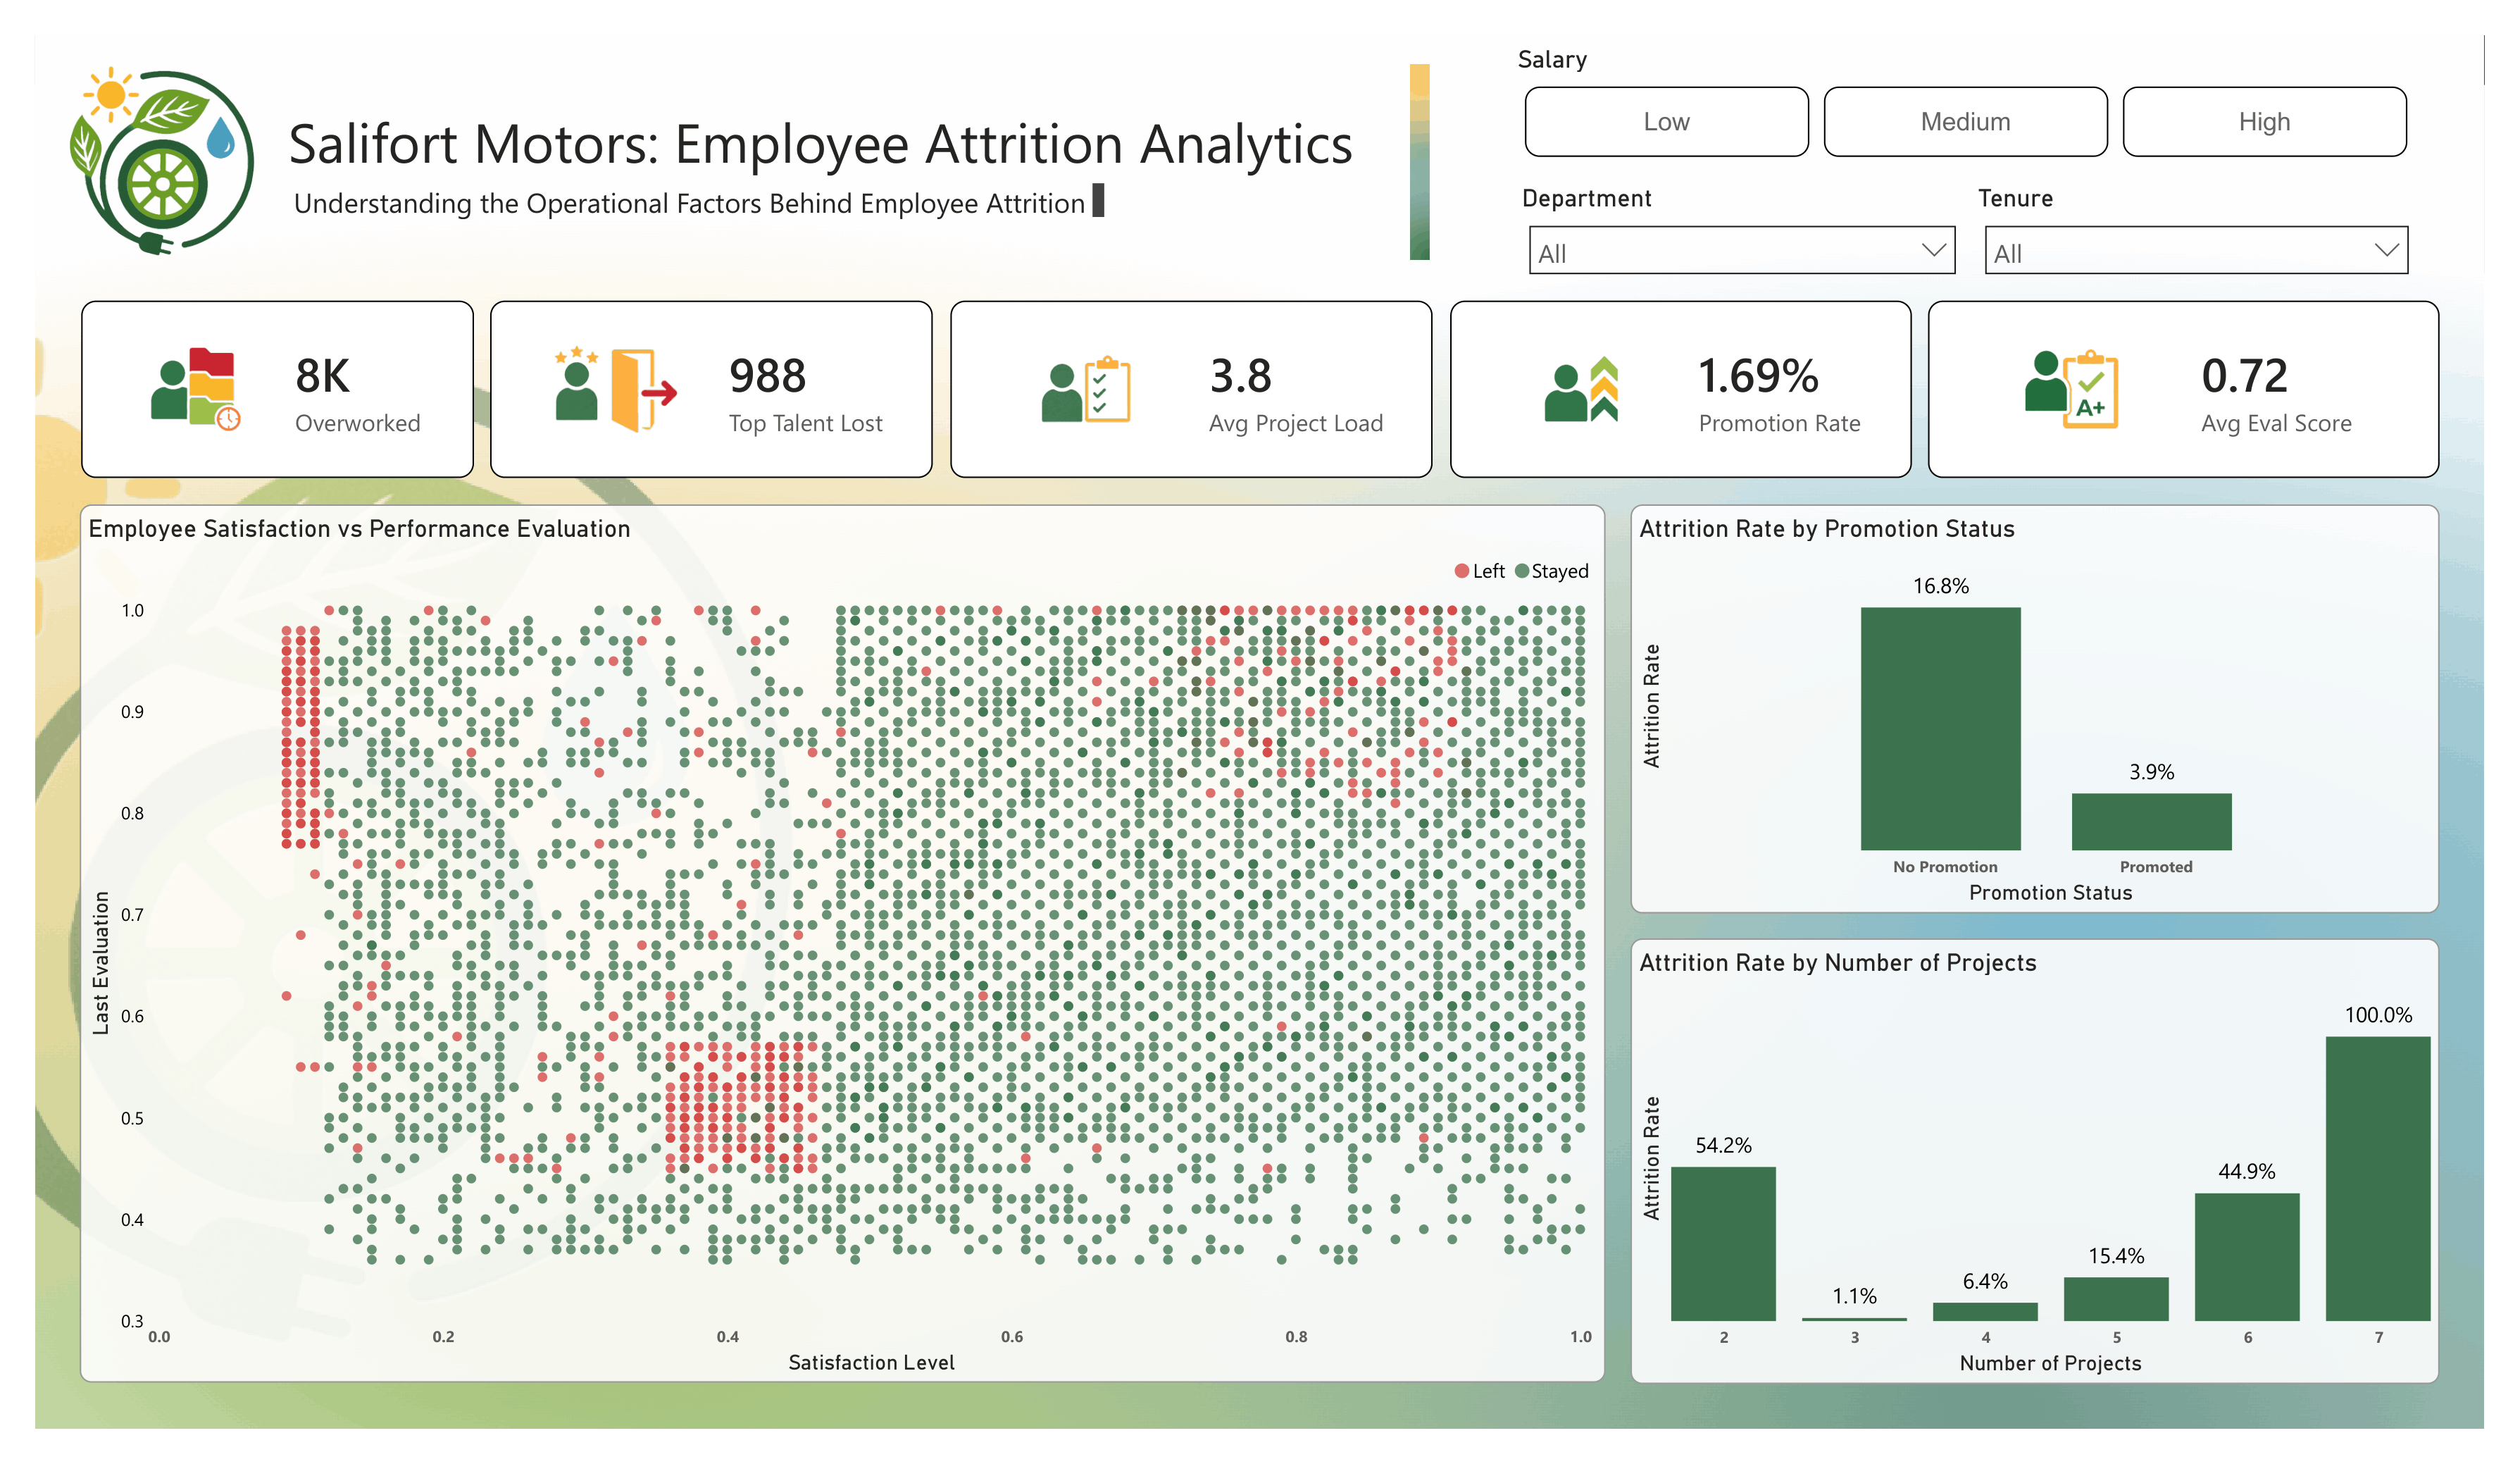

The dashboard page shown, as its layout file describes it:
{"tool":"powerbi","page":{"name":"Workload & Burnout Drivers","canvas":[1670,950],"ordinal":1},"visuals":[{"type":"image","box":[0,180.7,545,737.1],"z":0},{"type":"image","box":[937.6,19.7,13.7,133.5],"z":1000},{"type":"textbox","box":[167,42.2,759.8,78.8],"z":2000},{"type":"textbox","box":[171.4,95.6,562.8,34.9],"z":3000},{"type":"image","box":[13.1,17.2,145.3,138.1],"z":4000},{"type":"cardVisual","fields":{"Data":["Employee Attrition Data.High Performer Leavers"]},"box":[310,180.7,302.1,121.4],"z":5000},{"type":"cardVisual","fields":{"Data":["Employee Attrition Data.Average Projects"]},"box":[623.5,180.5,329,121.5],"z":6000},{"type":"cardVisual","fields":{"Data":["Employee Attrition Data.Overworked Employees"]},"box":[30.7,180.7,267.9,121.4],"z":7000},{"type":"cardVisual","fields":{"Data":["Employee Attrition Data.Average Last Evaluation"]},"box":[1291,180.5,348.9,121.4],"z":8000},{"type":"cardVisual","fields":{"Data":["Employee Attrition Data.Promotion Rate"]},"box":[964.5,181,315,121],"z":9000},{"type":"clusteredColumnChart","title":"Attrition Rate by Number of Projects","fields":{"Category":["Employee Attrition Data.Number Projects"],"Y":["Employee Attrition Data.Attrition Rate %"]},"box":[1088,616.4,552.4,303.3],"z":10000},{"type":"scatterChart","title":"Employee Satisfaction vs Performance Evaluation","fields":{"X":["Avg(Employee Attrition Data.Satisfaction Level)"],"Y":["Sum(Employee Attrition Data.Last Evaluation)"],"Series":["Employee Attrition Data.Attrition Status"],"Category":["Employee Attrition Data.Employee ID"]},"box":[30.3,320.1,1040.7,599.2],"z":11000},{"type":"clusteredColumnChart","title":"Attrition Rate by Promotion Status","fields":{"Category":["Employee Attrition Data.Promotion Status"],"Y":["Employee Attrition Data.Attrition Rate %"]},"box":[1087.7,320.1,552.2,279.1],"z":12000},{"type":"slicer","title":"Department","fields":{"Values":["Employee Attrition Data.Department"]},"box":[1008.8,100.7,311.4,73.6],"z":13000},{"type":"ChicletSlicer1448559807354","title":"Salary","fields":{"Category":["Employee Attrition Data.Salary"]},"box":[1005.9,6.4,623.6,94.3],"z":14000},{"type":"slicer","title":"Tenure","fields":{"Values":["Employee Attrition Data.Tenure"]},"box":[1320.2,100.7,309.3,73.6],"z":15000}]}

Visuals, with their boxes on the page's 1670x950 design canvas (x1, y1, x2, y2). These are canvas units, not pixel positions in the 2520x1464 screenshot, which may show the page scaled, cropped or inside an application window:
image: select_region(0, 181, 545, 918)
image: select_region(938, 20, 951, 153)
textbox: select_region(167, 42, 927, 121)
textbox: select_region(171, 96, 734, 130)
image: select_region(13, 17, 158, 155)
cardVisual - Employee Attrition Data.High Performer Leavers: select_region(310, 181, 612, 302)
cardVisual - Employee Attrition Data.Average Projects: select_region(624, 180, 952, 302)
cardVisual - Employee Attrition Data.Overworked Employees: select_region(31, 181, 299, 302)
cardVisual - Employee Attrition Data.Average Last Evaluation: select_region(1291, 180, 1640, 302)
cardVisual - Employee Attrition Data.Promotion Rate: select_region(964, 181, 1280, 302)
"Attrition Rate by Number of Projects" clusteredColumnChart: select_region(1088, 616, 1640, 920)
"Employee Satisfaction vs Performance Evaluation" scatterChart: select_region(30, 320, 1071, 919)
"Attrition Rate by Promotion Status" clusteredColumnChart: select_region(1088, 320, 1640, 599)
"Department" slicer: select_region(1009, 101, 1320, 174)
"Salary" ChicletSlicer1448559807354: select_region(1006, 6, 1630, 101)
"Tenure" slicer: select_region(1320, 101, 1630, 174)
